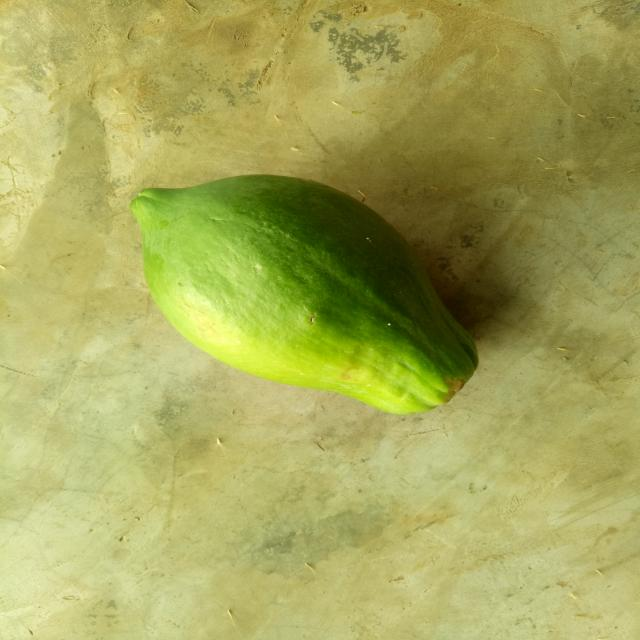Pepaya unrippen: (116, 167, 487, 417)
